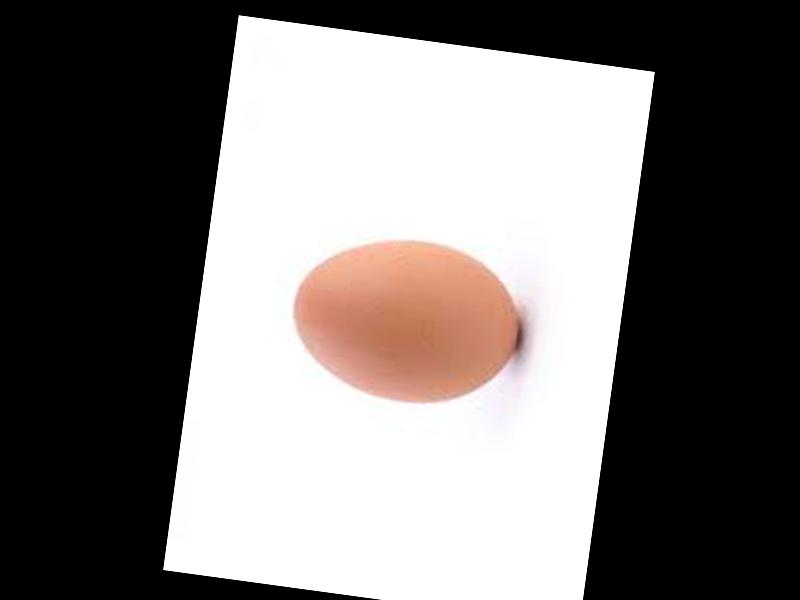Eggs: (283, 226, 528, 417)
